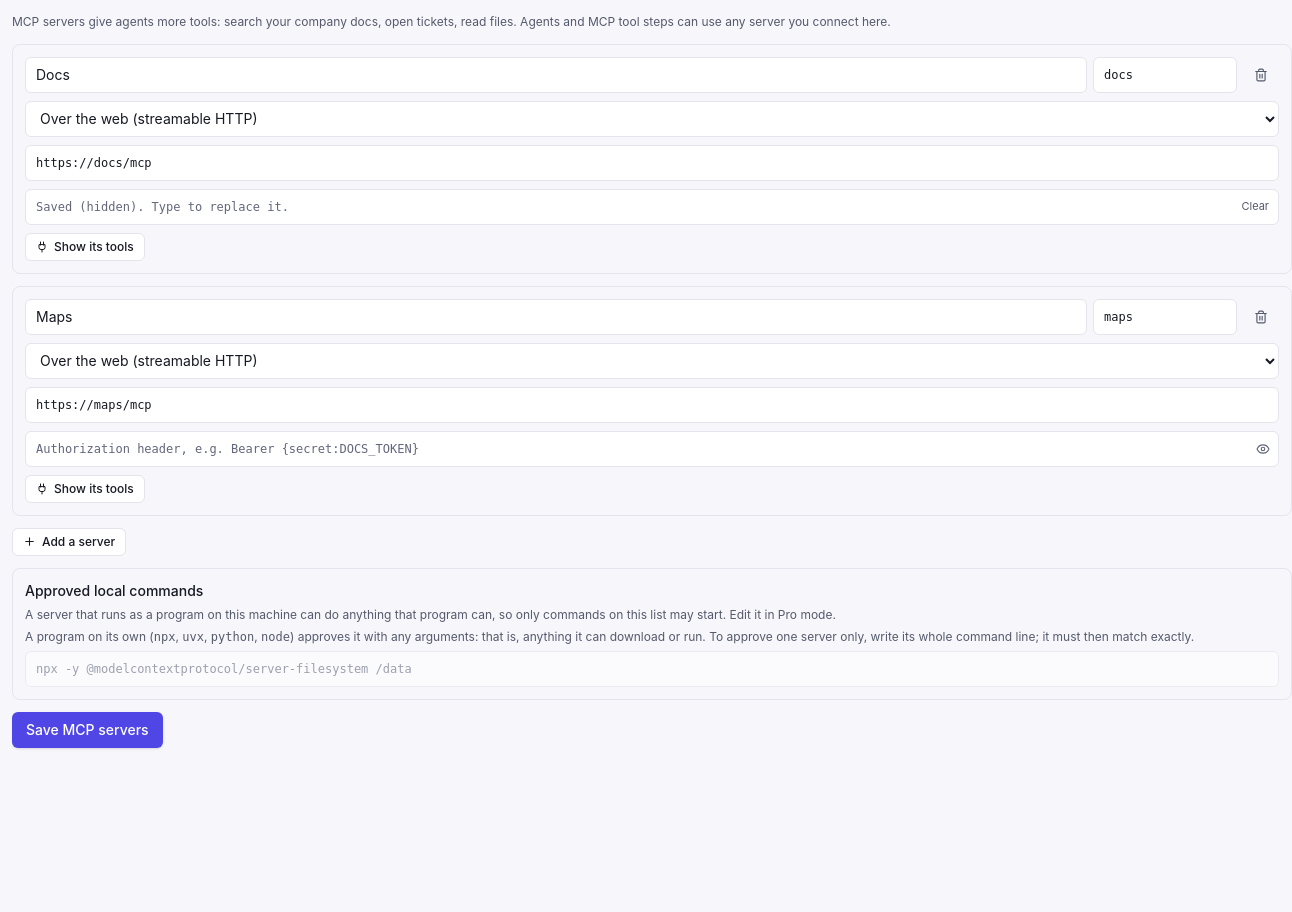
Test: MCP servers › a card keeps its own tools and id when the one above is removed
Step 1. Click the 1st button "Show its tools" → (85, 246), box [25, 232, 145, 260]
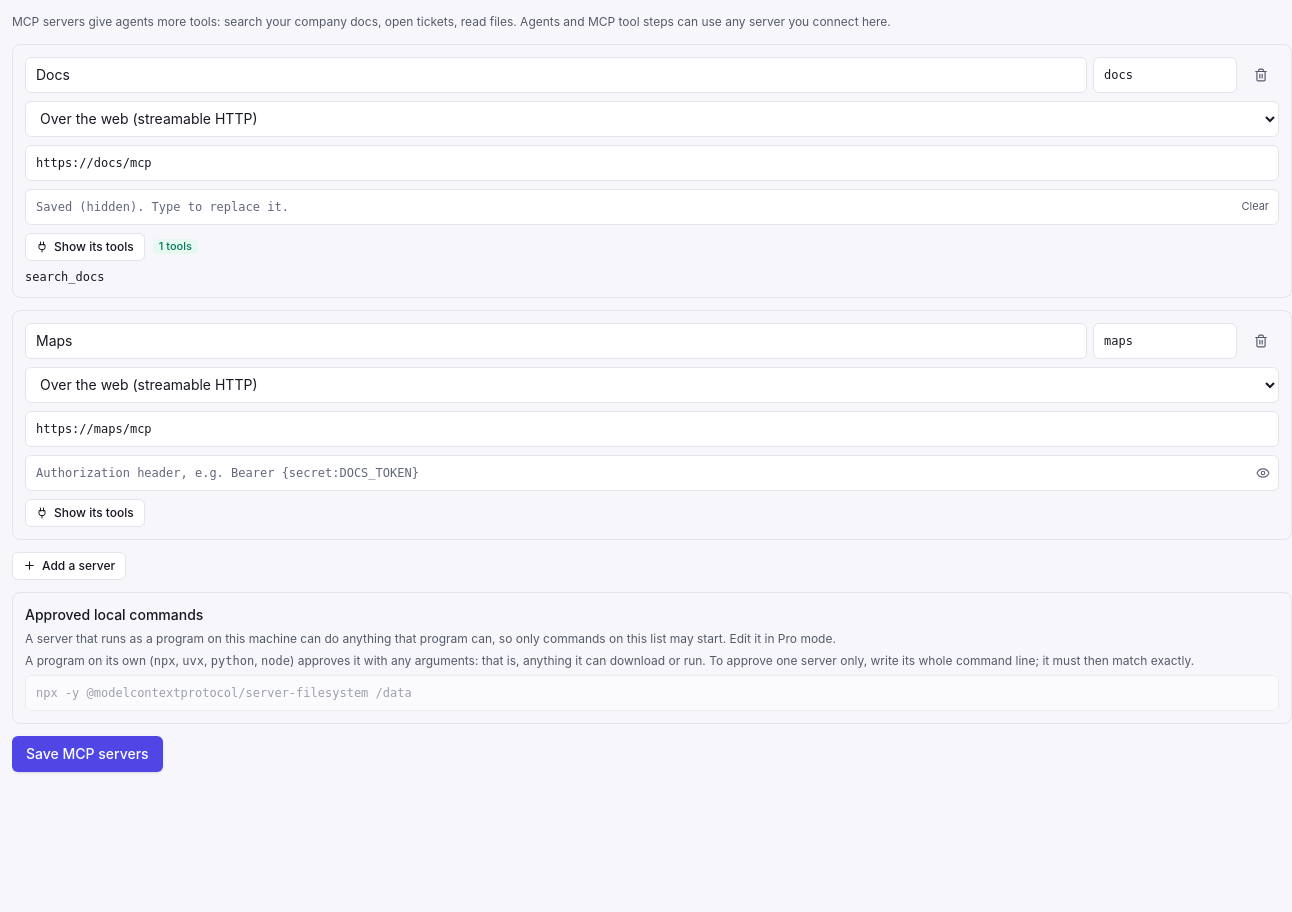
Check: the text "search_docs" is shown, box [25, 270, 104, 284]
Step 2. Click the button named "Remove Docs" → (1261, 74), box [1243, 56, 1279, 92]
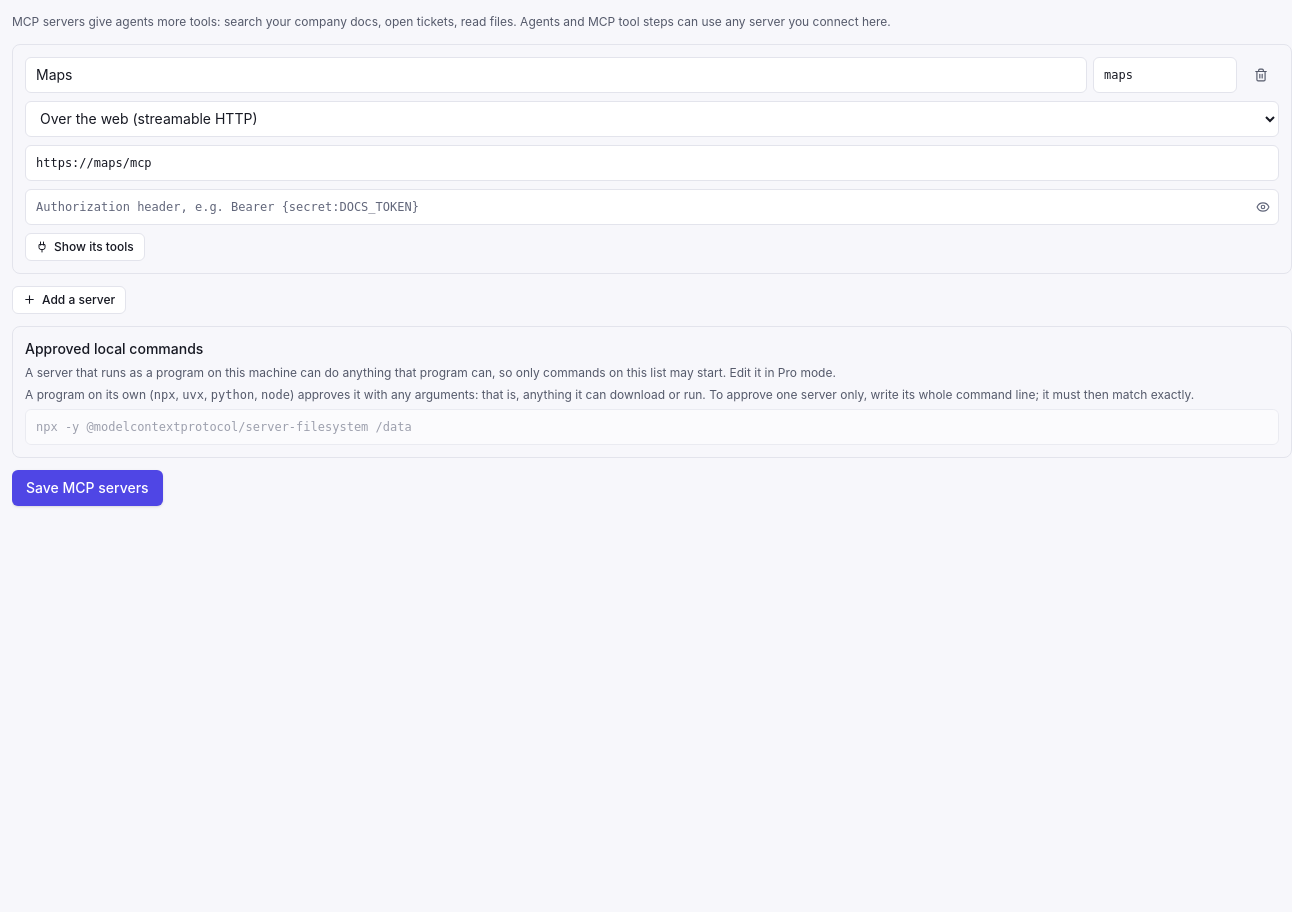
Check: the field named "Server id" holds "maps", box [1093, 56, 1237, 92]
Check: the text "search_docs" is gone
